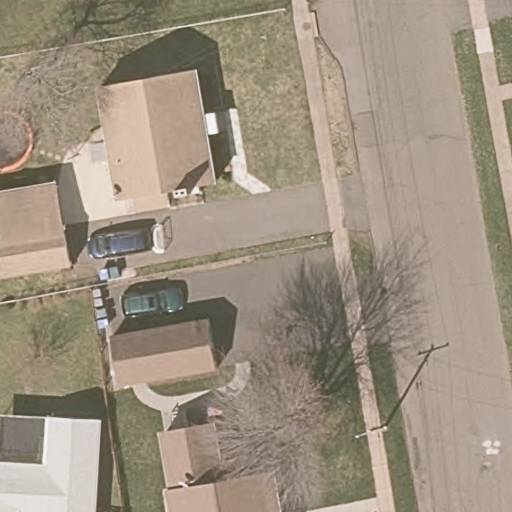DT: (354, 424, 388, 439)
